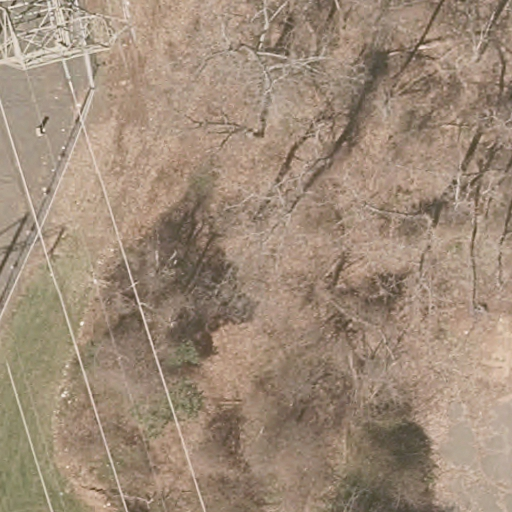TT: (1, 1, 132, 73)
